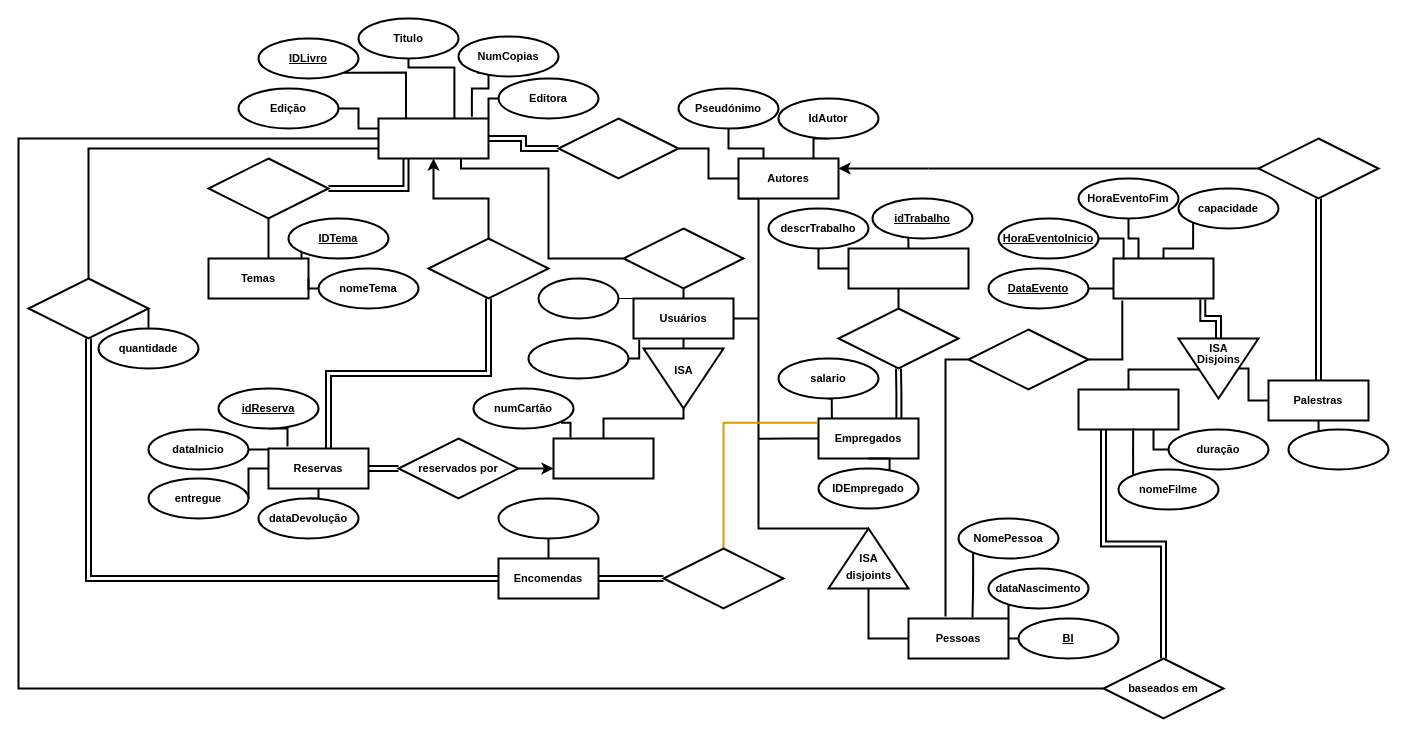
This 1406x736 diagram has some shape labels left out. Each missing label, with the centre of its shape:
apresentadas por: the point at 1318,168
assistiram: the point at 1028,359
de: the point at 268,188
encomendados: the point at 88,308
escritos por: the point at 618,148
Eventos: the point at 1163,278
Filmes: the point at 1128,409
idEncomenda: the point at 548,518
IDUsuário: the point at 578,358
leram: the point at 683,258
Livros: the point at 433,138
Membros: the point at 603,458
Postos Trabalho: the point at 908,268
recebidas por: the point at 723,578
registoEntrada: the point at 578,298
reservados: the point at 488,268
trabalham em: the point at 898,338
Tópico: the point at 1338,449
